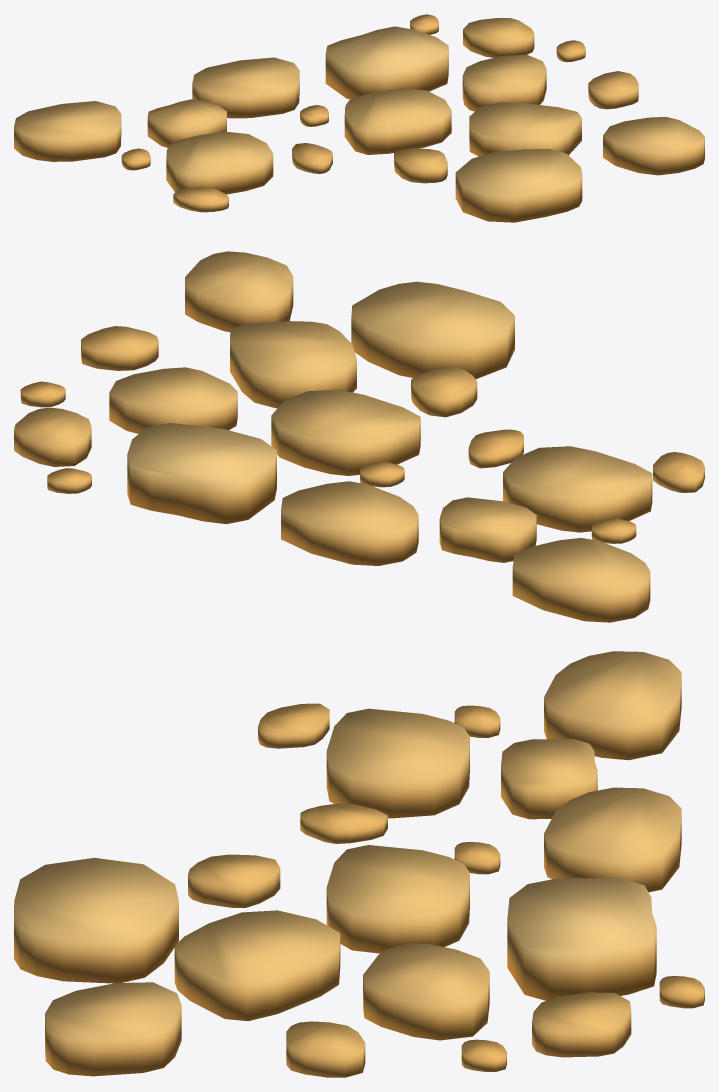
Rendered from obj_PathBowSand.fbx.
The picture shows the model from 3 angles, top to bottom: view 1: azimuth 30°, elevation 25°; view 2: azimuth 150°, elevation 25°; view 3: azimuth 270°, elevation 25°; orthographic projection. The views are drawn at different scales.
Parts seen in each view (by area): view 1: obj_PathBowSand; view 2: obj_PathBowSand; view 3: obj_PathBowSand.
Boxes of the visible parts, x1,y1,x2,y2 form: obj_PathBowSand: (14,14,704,222); obj_PathBowSand: (14,251,704,622); obj_PathBowSand: (14,651,704,1077).
Bounding box in the file's own units: 1552 × 85.29 × 1136.
